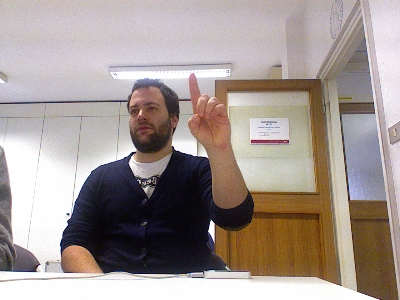食指: (187, 72, 232, 151)
